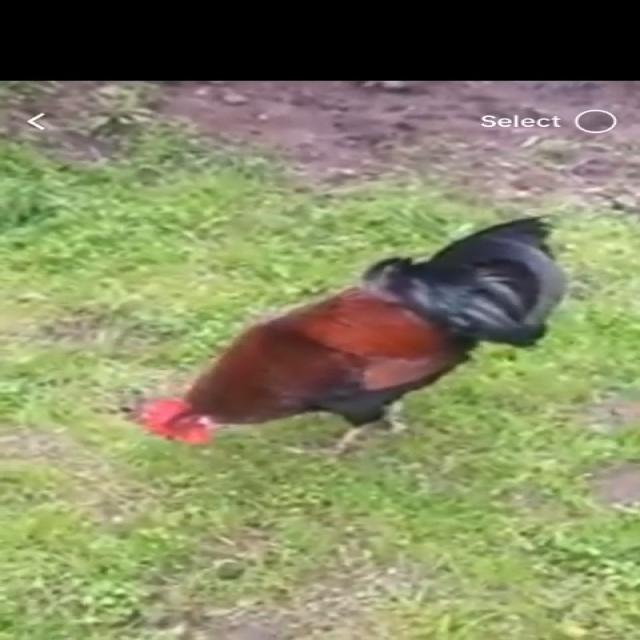feeding: (130, 198, 577, 462)
